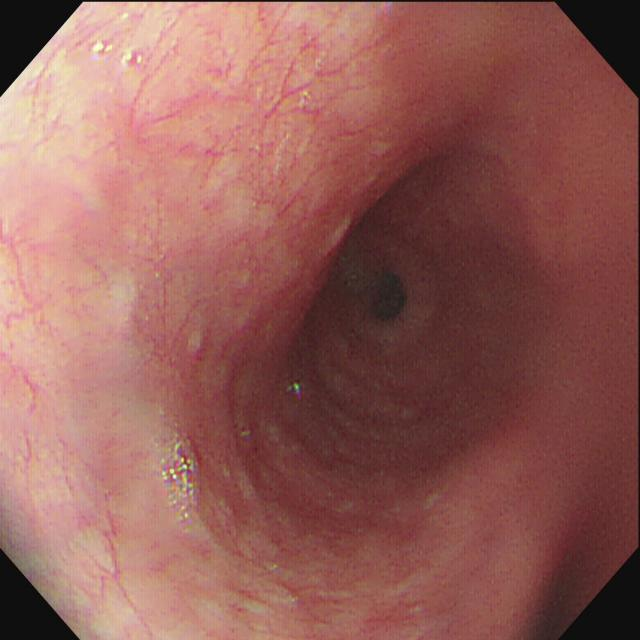E: (351, 264, 426, 341)
T: (156, 430, 202, 525), (87, 37, 145, 72)
